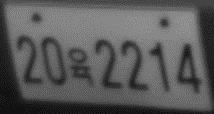0: (39, 36, 68, 84)
1: (146, 42, 175, 91)
2: (92, 37, 125, 89), (120, 39, 149, 91), (16, 34, 43, 84)
4: (176, 43, 203, 95)
육: (67, 46, 93, 85)
